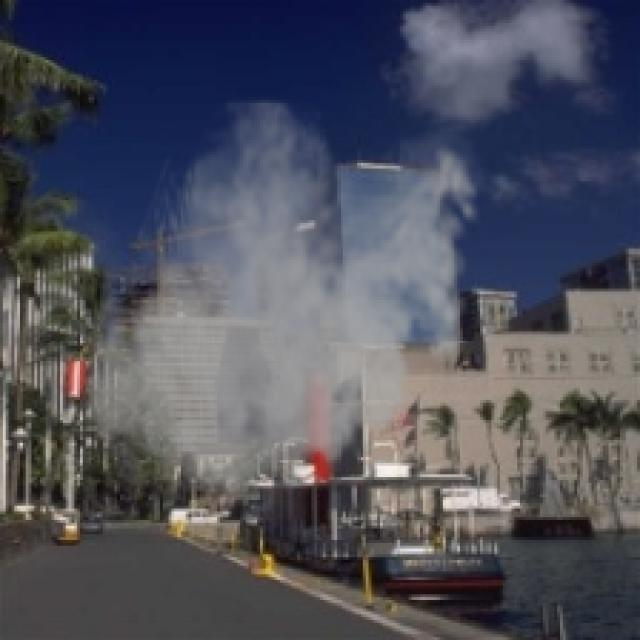Smoke: (74, 97, 492, 523)
